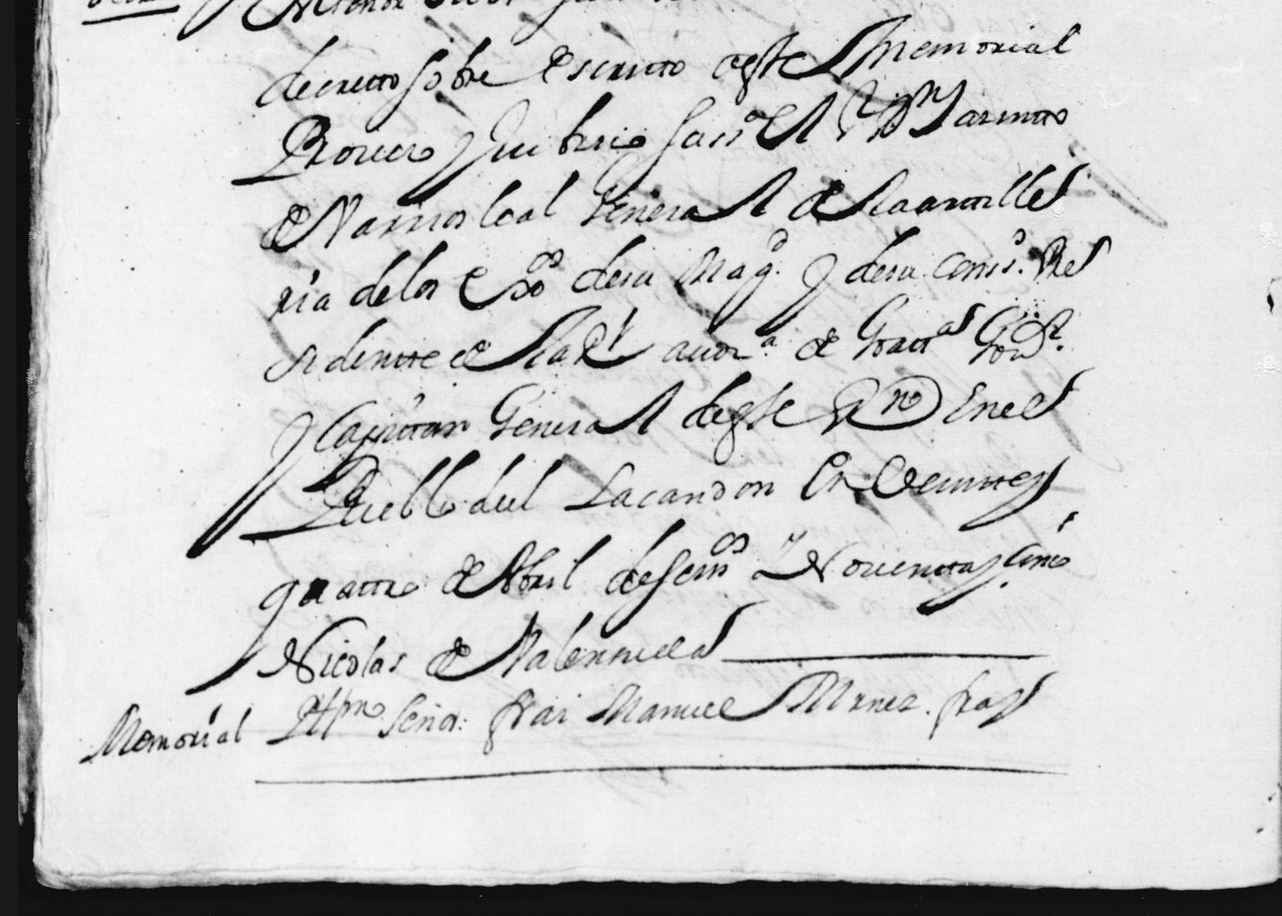lacandon: (564, 462, 774, 511)
